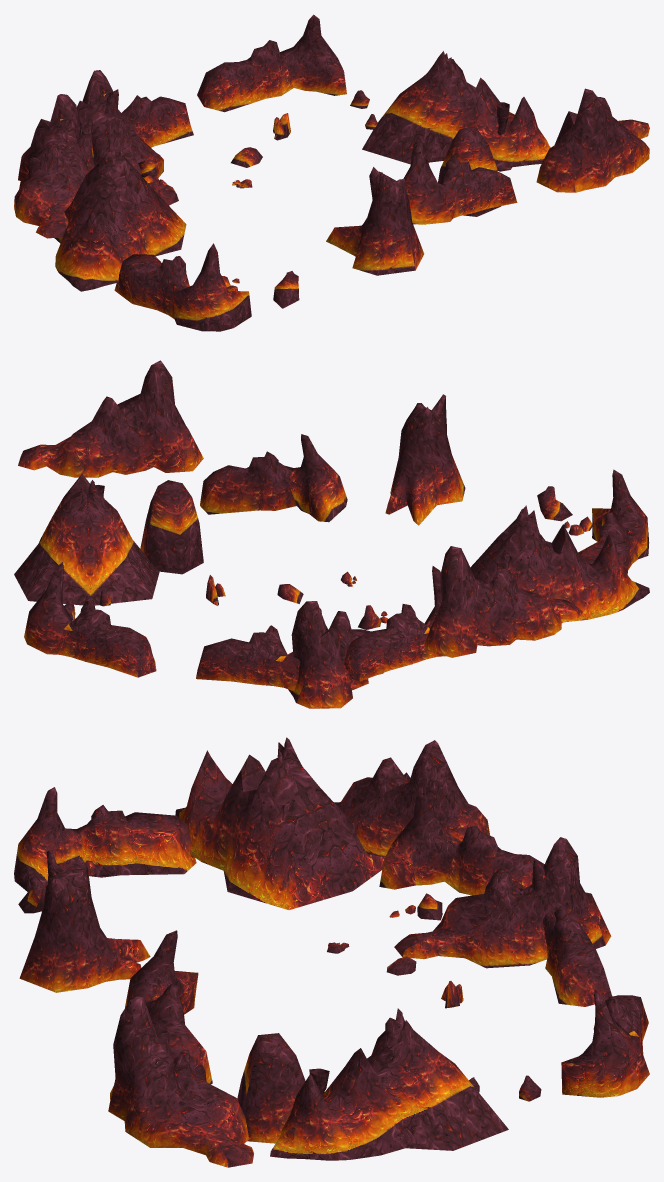
File: lava_core_3-4.FBX
3 renders of one model, top to bottom at view 1: azimuth 30°, elevation 25°; view 2: azimuth 150°, elevation 25°; view 3: azimuth 270°, elevation 25°, orthographic. The views are drawn at different scales.
Parts seen in each view (by area): view 1: shanti_02; view 2: shanti_02; view 3: shanti_02.
Boxes of the visible parts, x1,y1,x2,y2 form: shanti_02: [14, 14, 649, 331]; shanti_02: [14, 360, 649, 708]; shanti_02: [14, 737, 649, 1167].
Size of what is drawn, in the model's own units: 16805 by 12625 by 3916.
